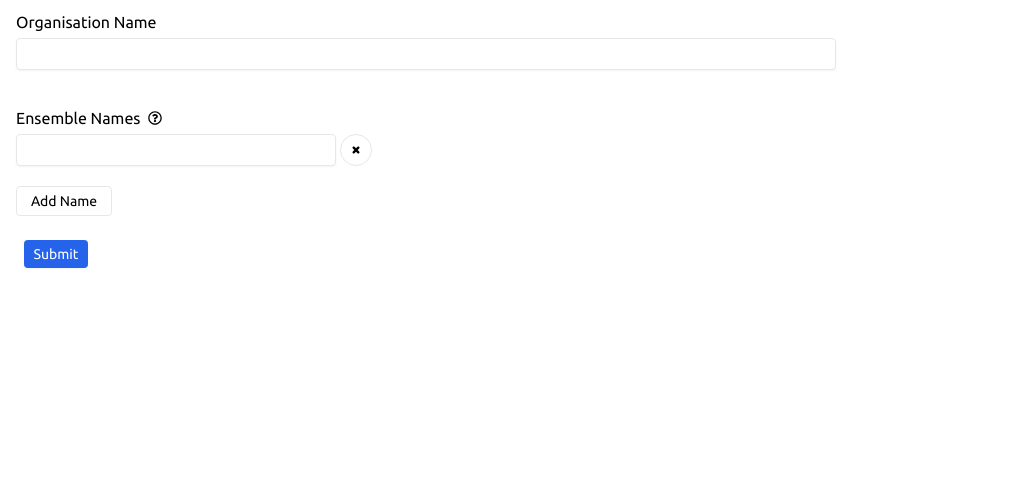
it: <CreateEnsembleForm /> › appropriate err messages render if submit btn clicked without complete form
What coordinates should you click on to do the following:
click the button "Submit"
I would click on:
 (56, 254)
Its box is [24,240,88,268].
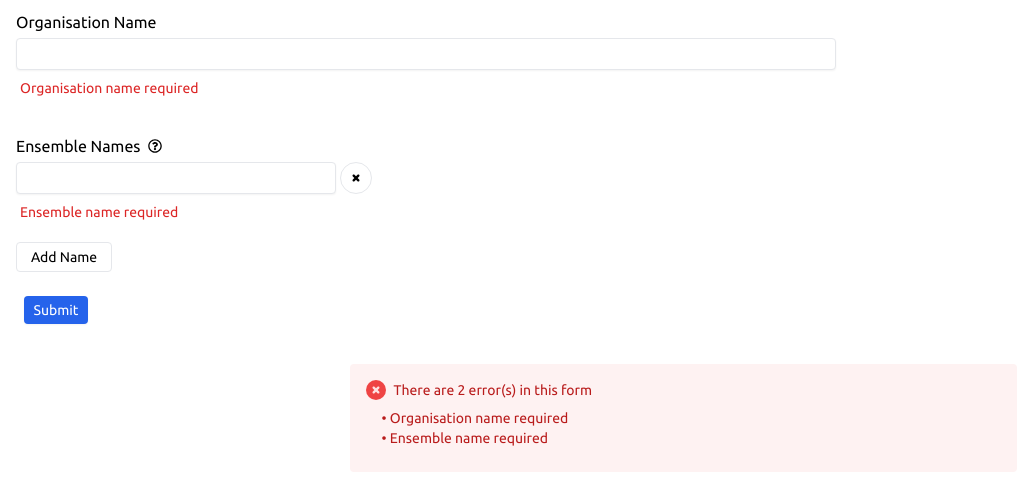
Expected: the element with test id "create-ensemble-form" shows "Organisation name required", [20,80,198,96]
Expected: the element with test id "create-ensemble-form" shows "Ensemble name required", [20,204,178,220]
